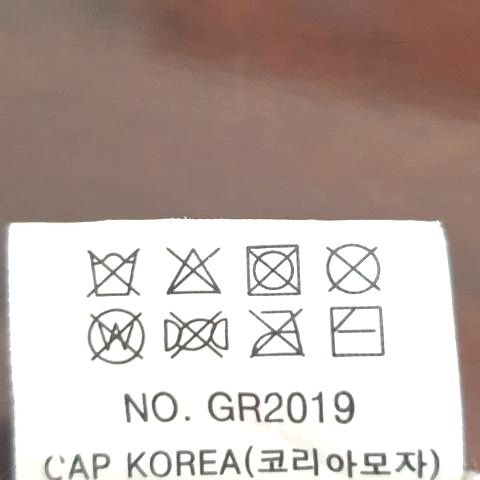DN_bleach: (162, 240, 229, 298)
DN_dry_clean: (323, 239, 387, 294)
DN_iron: (247, 306, 309, 361)
DN_tumble_dry: (241, 242, 311, 300)
DN_wash: (84, 242, 147, 303)
DN_wet_clean: (85, 309, 149, 369)
DN_wring: (163, 307, 234, 359)
drip_dry_in_shade: (326, 302, 394, 361)
